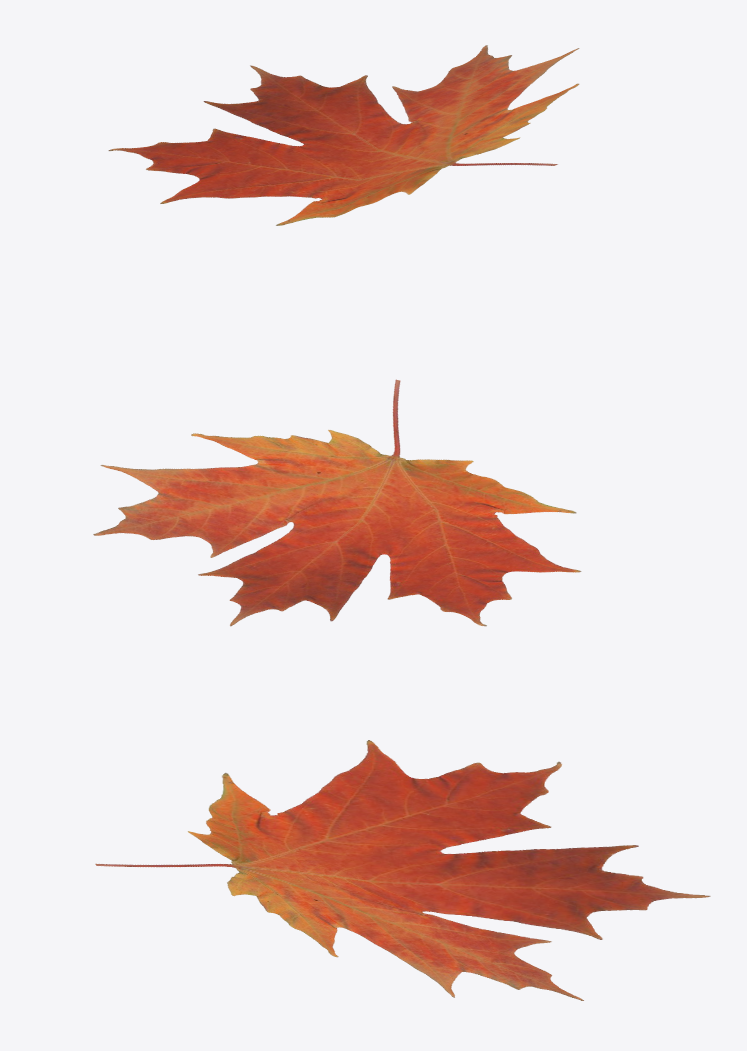
The model's file is red-leaf.glb.
3 renders of one model, top to bottom at view 1: azimuth 30°, elevation 25°; view 2: azimuth 150°, elevation 25°; view 3: azimuth 270°, elevation 25°, orthographic. The views are drawn at different scales.
Parts seen in each view (by area): view 1: Plane; view 2: Plane; view 3: Plane.
Boxes of the visible parts, x1,y1,x2,y2 form: Plane: (108,45,579,225); Plane: (93,379,581,626); Plane: (95,740,710,1000).
Bounding box in the file's own units: 2.19 × 0.3385 × 2.1.
1 material, 1 textured.
